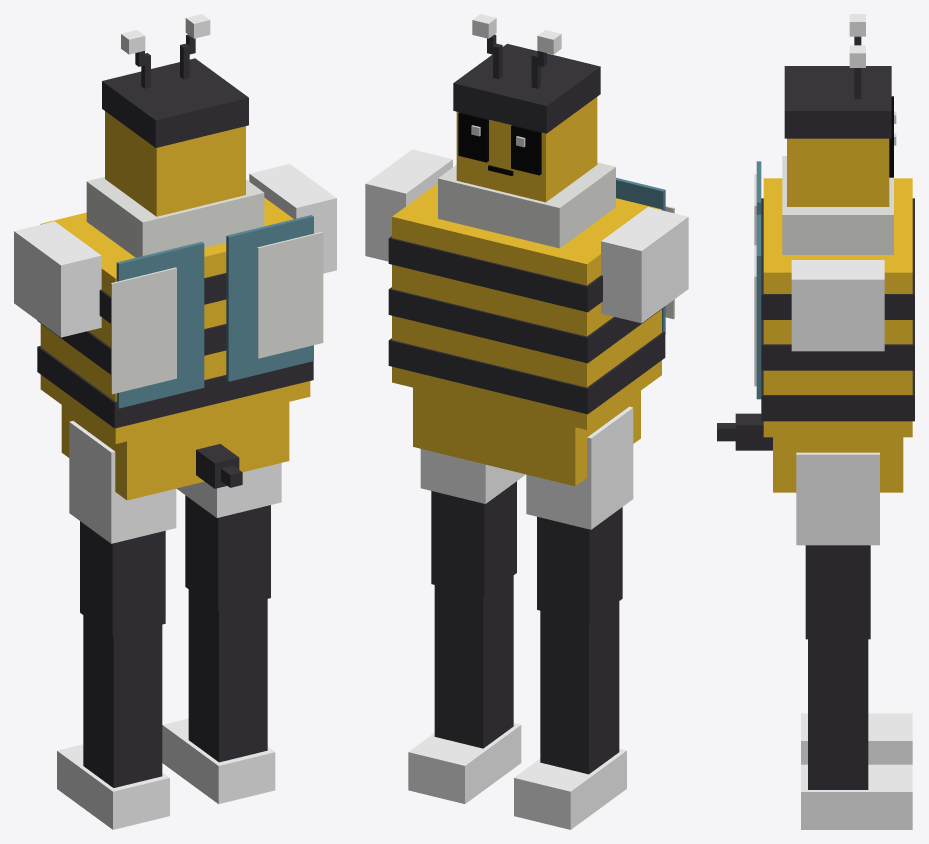
The model's file is BEE.gltf.
The picture shows the model from 3 angles, left to right: view 1: azimuth 30°, elevation 25°; view 2: azimuth 150°, elevation 25°; view 3: azimuth 270°, elevation 25°; orthographic projection.
Visible parts, largest first — view 1: BEE; view 2: BEE; view 3: BEE.
Boxes of the visible parts, bbox=[...] form: BEE: bbox=[14, 14, 336, 829]; BEE: bbox=[365, 14, 688, 829]; BEE: bbox=[717, 14, 914, 829].
Size of the model in its own units: 0.68 by 1.79 by 0.425.
